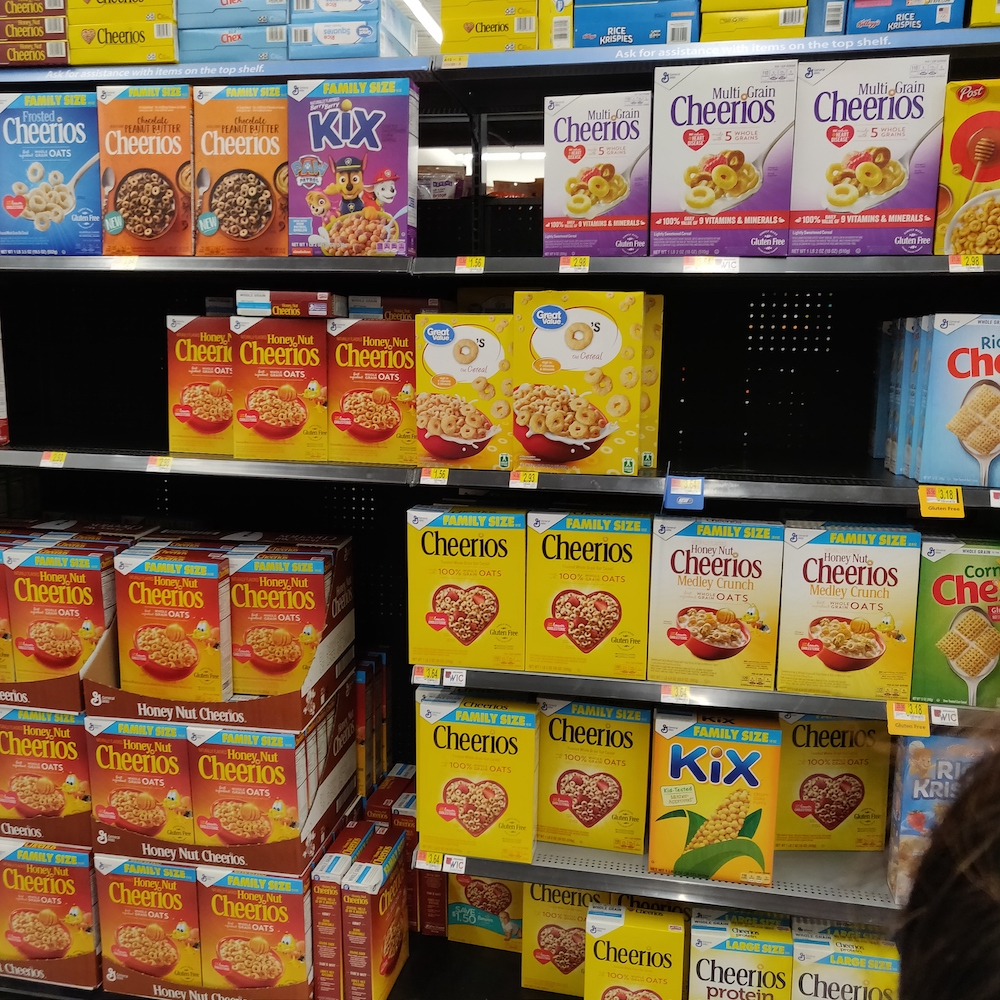Kix Berry -568919964: (283, 87, 414, 256)
Kix Crispy Corn-550051312: (654, 726, 782, 877)
